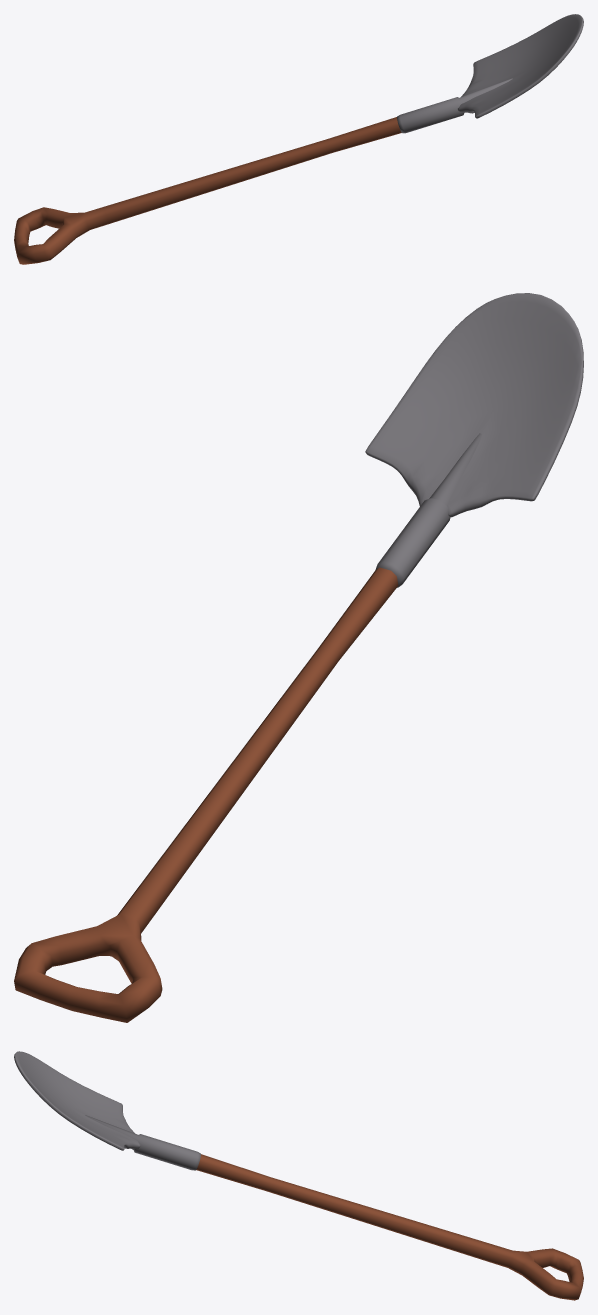
The model's file is shovel.fbx.
3 renders of one model, top to bottom at view 1: azimuth 90°, elevation 25°; view 2: azimuth 150°, elevation 25°; view 3: azimuth 270°, elevation 25°, orthographic. The views are drawn at different scales.
Parts seen in each view (by area): view 1: Handle, Blade, Socket; view 2: Blade, Handle, Socket; view 3: Handle, Blade, Socket.
Part boxes in pixels (x1,y1,x2,y2): Handle: [14, 117, 401, 264]; Blade: [458, 14, 583, 118]; Socket: [397, 78, 512, 133]; Blade: [365, 293, 583, 517]; Handle: [14, 567, 398, 1022]; Socket: [375, 433, 481, 587]; Handle: [196, 1154, 583, 1300]; Blade: [14, 1051, 140, 1150]; Socket: [85, 1115, 200, 1170].
Size of the model in its own units: 18.96 by 41.11 by 91.97.
